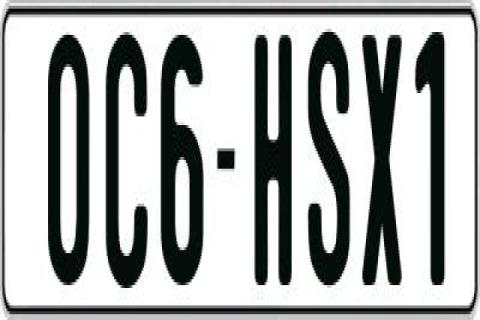0: (162, 26, 206, 282), (44, 26, 85, 288), (414, 32, 444, 288)
C: (104, 32, 152, 300)
H: (254, 29, 294, 294)
S: (306, 32, 346, 285)
X: (360, 26, 402, 294)
